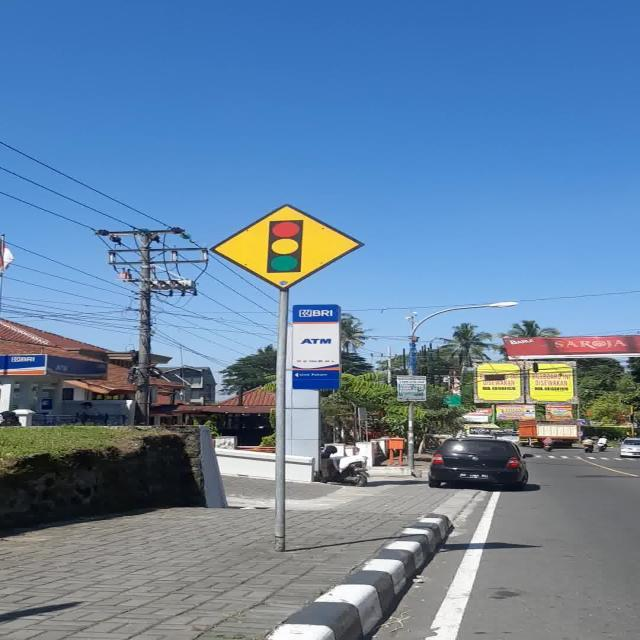Lampu Lalu Lintas: (210, 204, 364, 290)
